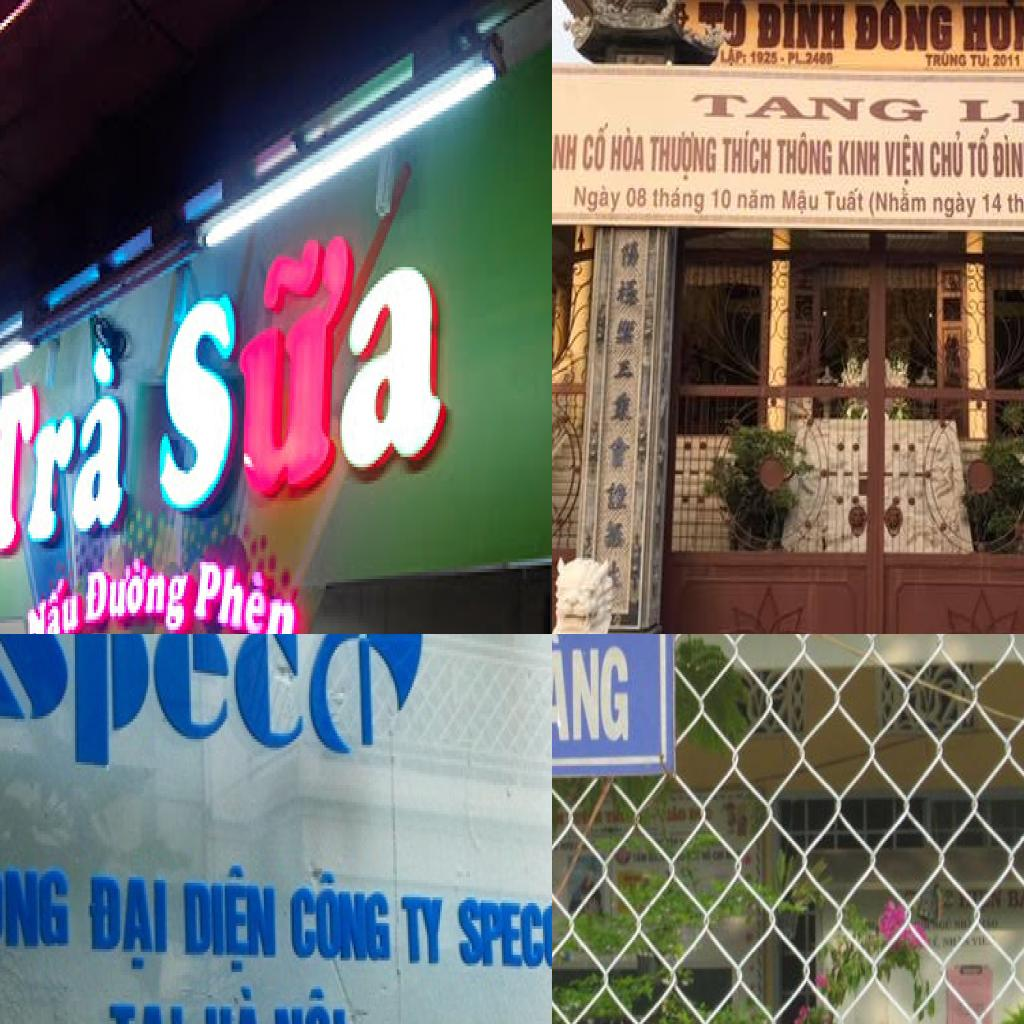text: (154, 169, 450, 528), (0, 634, 456, 819), (26, 328, 134, 552), (182, 863, 282, 978), (290, 866, 393, 972), (86, 863, 174, 978), (552, 634, 636, 750), (190, 551, 306, 634), (0, 836, 75, 963), (82, 552, 196, 634), (455, 883, 552, 975), (691, 91, 930, 128), (853, 0, 954, 53), (755, 0, 846, 53), (399, 889, 447, 972), (649, 130, 720, 186), (26, 565, 82, 634), (961, 0, 1024, 53), (200, 980, 269, 1024), (776, 130, 834, 179), (957, 86, 1024, 128), (99, 995, 192, 1024), (721, 128, 773, 179), (882, 133, 928, 188), (867, 183, 929, 219), (836, 135, 882, 179), (608, 124, 646, 177), (928, 130, 966, 182), (572, 181, 626, 215), (652, 183, 706, 217), (580, 117, 610, 175), (991, 131, 1024, 182), (964, 126, 993, 181), (932, 188, 980, 221), (721, 0, 749, 49), (780, 186, 821, 219), (822, 188, 866, 217), (552, 129, 580, 173), (736, 188, 776, 214), (787, 50, 836, 68), (925, 52, 968, 72), (709, 186, 734, 214), (624, 186, 649, 212), (981, 190, 1004, 217), (720, 48, 747, 70), (1006, 189, 1024, 222), (750, 50, 780, 68), (993, 52, 1023, 70), (970, 52, 992, 72)
